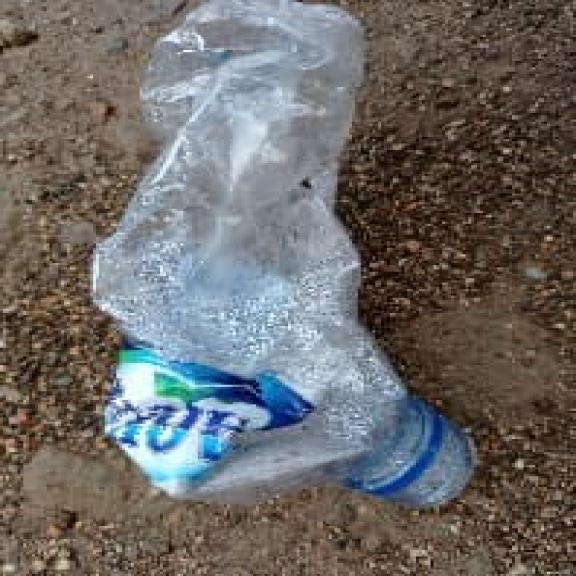Plastik: (93, 0, 473, 507)
